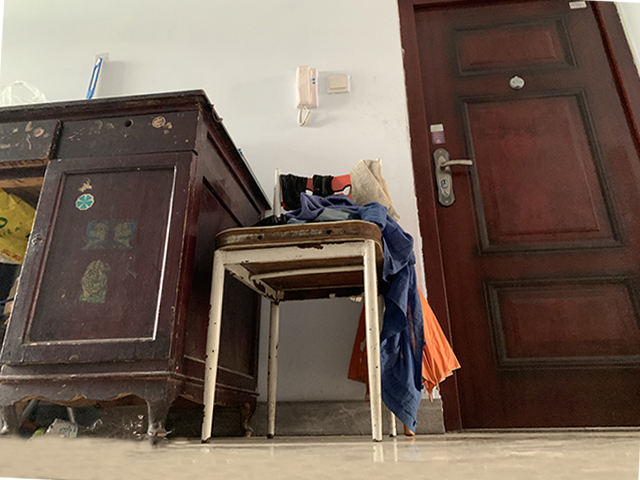stool: (199, 156, 397, 443)
table: (1, 88, 277, 450)
